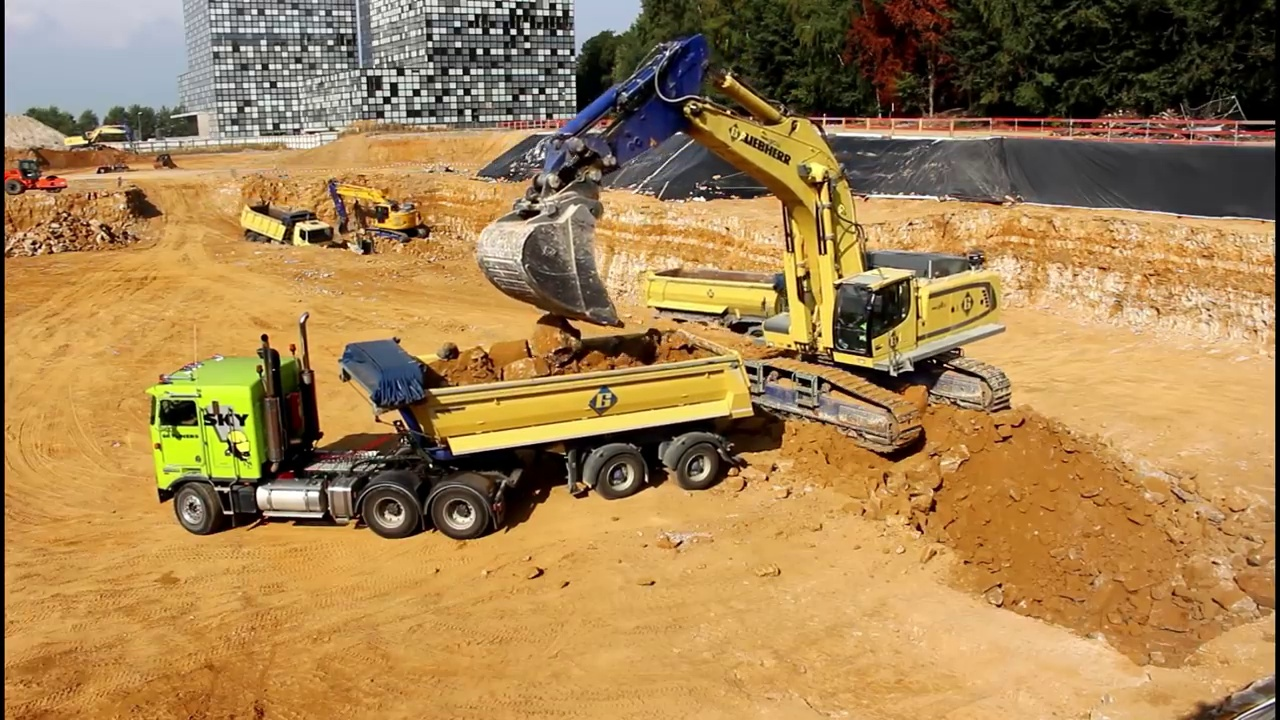compactor: (4, 158, 67, 200)
excavator: (468, 30, 1018, 459), (323, 174, 435, 248), (61, 120, 145, 164)
truck: (143, 307, 764, 543), (643, 259, 881, 371), (237, 199, 336, 269)
